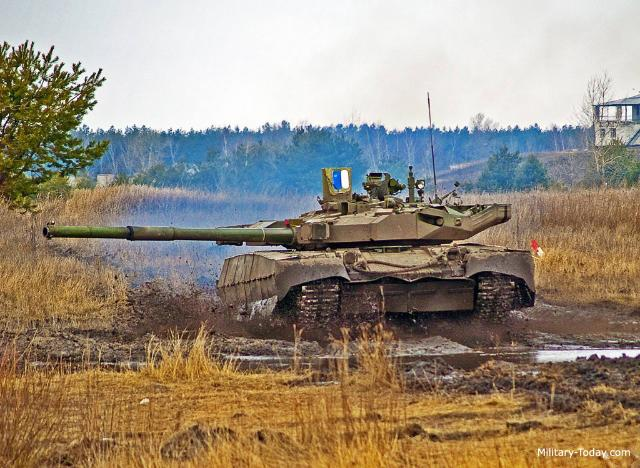tank: (221, 184, 539, 326)
